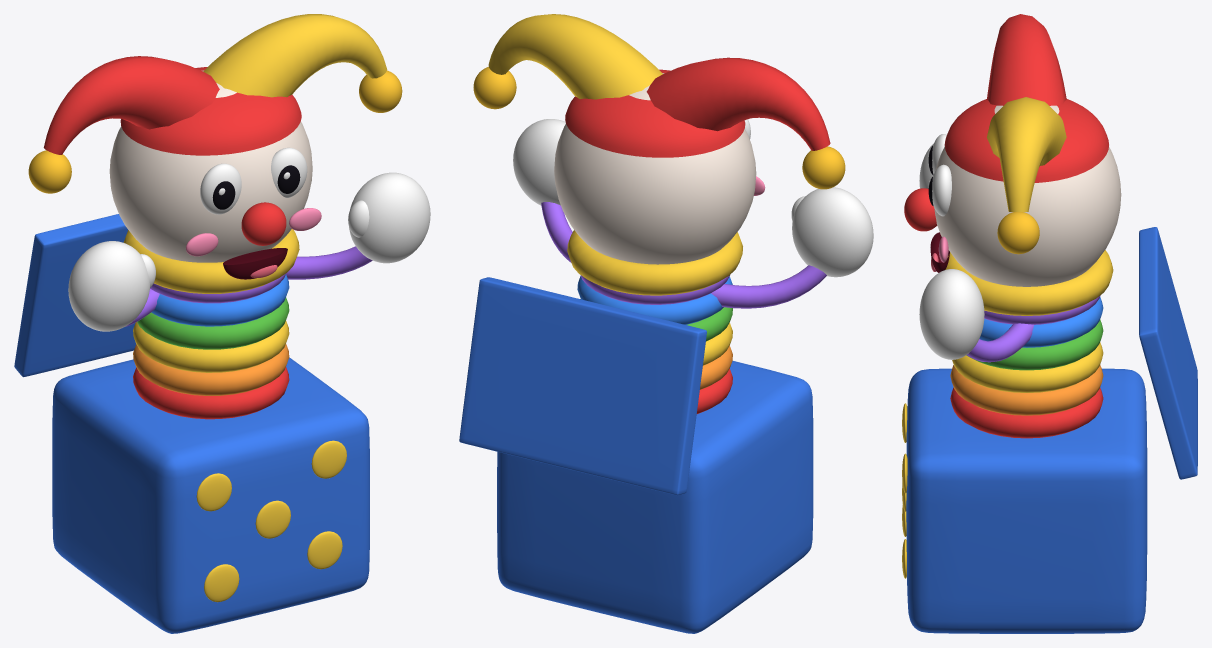
3 renders of one model, left to right at view 1: azimuth 30°, elevation 25°; view 2: azimuth 150°, elevation 25°; view 3: azimuth 270°, elevation 25°, orthographic. The views are drawn at different scales.
Parts seen in each view (by area): view 1: box, head, lid, horn-1, horn1, hatBase, glove-1, glove1, collar, spring1, spring2, spring0 (+18 smaller); view 2: box, lid, head, horn-1, horn1, hatBase, glove-1, collar, glove1, arm-1, spring4, bell-1 (+7 smaller); view 3: box, head, lid, hatBase, horn1, horn-1, glove1, collar, spring0, spring1, spring2, spring3 (+6 smaller).
Boxes of the visible parts, <box> form: box: <box>52,357,369,633</box>; head: <box>109,70,312,262</box>; lid: <box>14,214,136,377</box>; horn-1: <box>43,56,219,154</box>; horn1: <box>203,14,387,97</box>; hatBase: <box>120,67,301,155</box>; glove-1: <box>68,241,149,331</box>; glove1: <box>349,172,430,263</box>; collar: <box>123,229,299,293</box>; spring1: <box>133,344,289,395</box>; spring2: <box>133,321,289,372</box>; spring0: <box>133,367,289,419</box>; box: <box>497,361,813,633</box>; lid: <box>459,277,706,495</box>; head: <box>554,73,756,264</box>; horn-1: <box>646,57,830,150</box>; horn1: <box>488,14,662,99</box>; hatBase: <box>565,69,745,157</box>; glove-1: <box>792,187,873,277</box>; collar: <box>567,230,742,295</box>; glove1: <box>513,119,565,205</box>; arm-1: <box>711,265,826,308</box>; spring4: <box>577,276,732,324</box>; bell-1: <box>802,146,845,189</box>; box: <box>906,368,1147,633</box>; head: <box>934,105,1121,286</box>; lid: <box>1139,227,1197,479</box>; hatBase: <box>944,99,1108,182</box>; horn1: <box>987,97,1066,211</box>; horn-1: <box>987,14,1066,105</box>; glove1: <box>919,269,984,359</box>; collar: <box>945,250,1113,315</box>; spring0: <box>950,387,1103,438</box>; spring1: <box>950,365,1103,415</box>; spring2: <box>952,342,1103,392</box>; spring3: <box>966,319,1103,370</box>.
Size of the model in its own units: 2.49 by 3.48 by 1.78.
